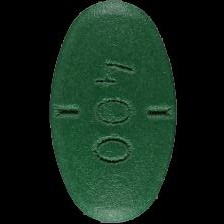63629-1497: (0, 0, 224, 224)
